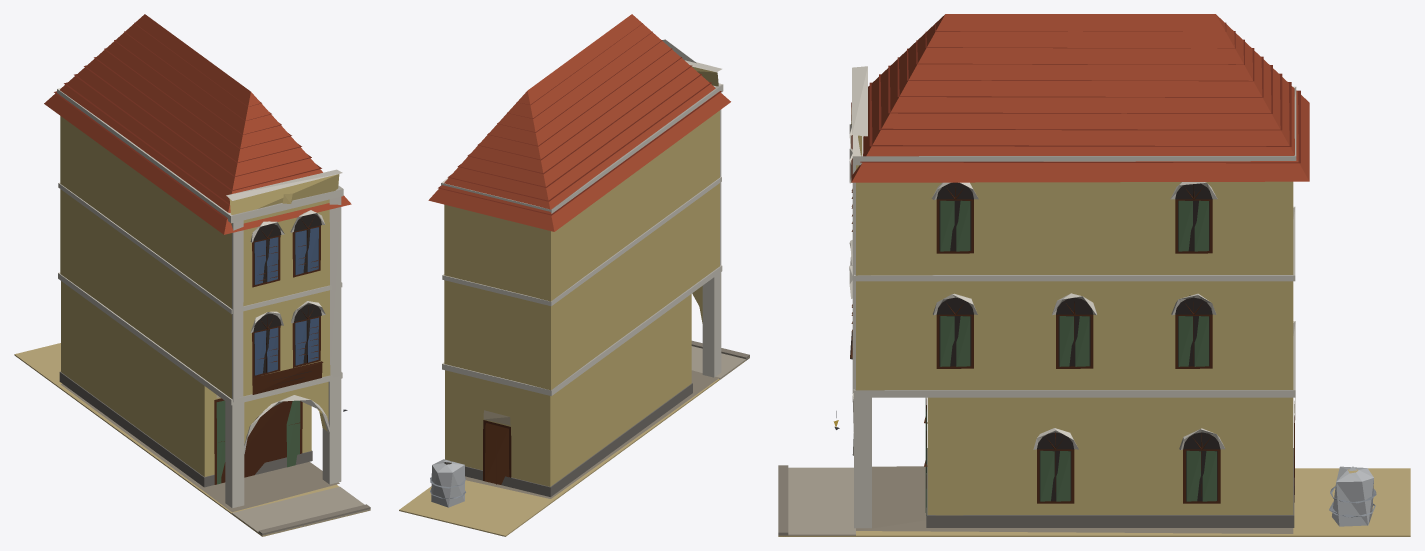
The model's file is bay2_right.glb.
The picture shows the model from 3 angles, left to right: view 1: azimuth 30°, elevation 25°; view 2: azimuth 150°, elevation 25°; view 3: azimuth 270°, elevation 25°; orthographic projection. The views are drawn at different scales.
Visible parts, largest first — view 1: body, windows; view 2: body; view 3: body, windows.
Part boxes in pixels (left/top/right/bottom): body: left=14, top=14, right=370, bottom=536; windows: left=253, top=213, right=321, bottom=375; body: left=399, top=14, right=749, bottom=536; body: left=778, top=14, right=1410, bottom=536; windows: left=833, top=182, right=1220, bottom=501.
Bounding box in the file's own units: 4.75 × 13.58 × 15.9.
